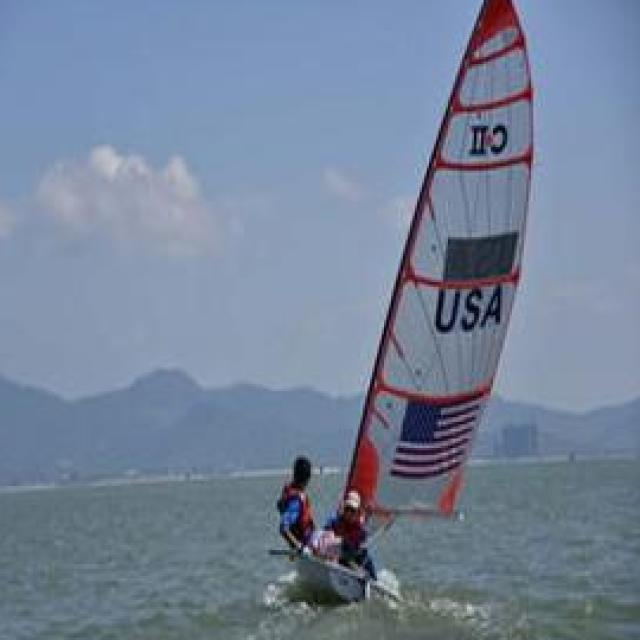sailboat: (268, 0, 536, 600)
